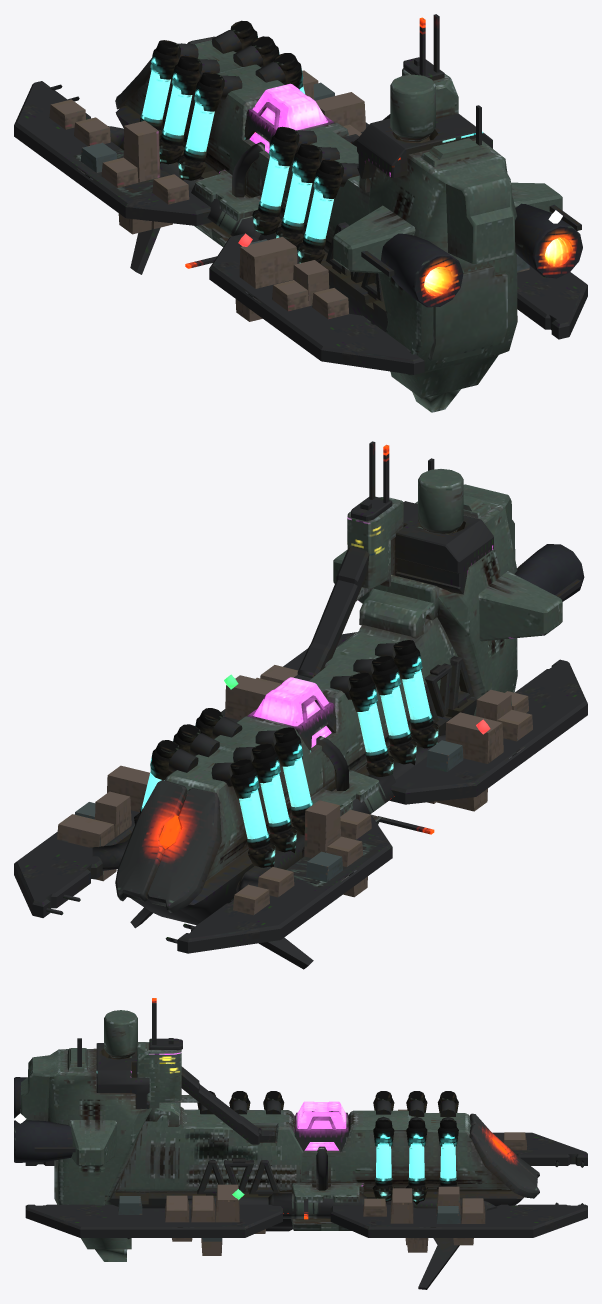
Rendered from demaner-freighter.glb.
The picture shows the model from 3 angles, top to bottom: view 1: azimuth 30°, elevation 25°; view 2: azimuth 150°, elevation 25°; view 3: azimuth 270°, elevation 25°; orthographic projection. The views are drawn at different scales.
Visible parts, largest first — view 1: demander_freighter_lowpoly, Object001; view 2: demander_freighter_lowpoly, Object001; view 3: demander_freighter_lowpoly, Object001.
Part boxes in pixels (x1,y1,x2,y2): demander_freighter_lowpoly: (49,14,587,374); Object001: (14,40,517,412); demander_freighter_lowpoly: (14,441,587,943); Object001: (130,484,517,969); demander_freighter_lowpoly: (14,998,587,1255); Object001: (20,1042,587,1289).
Size of the model in its own units: 297 by 386 by 749.
5 materials, 2 textured.
